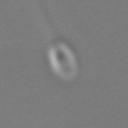normal: (30, 1, 56, 44)
